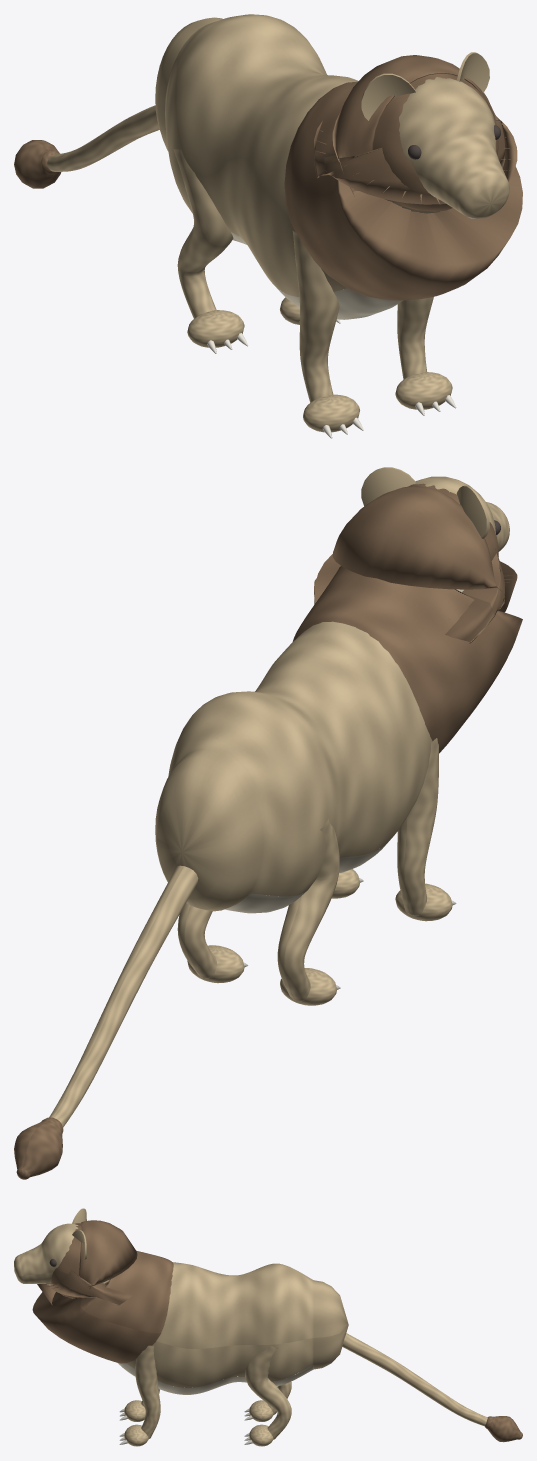
The model's file is other-african-lion.glb.
The picture shows the model from 3 angles, top to bottom: view 1: azimuth 30°, elevation 25°; view 2: azimuth 150°, elevation 25°; view 3: azimuth 270°, elevation 25°; orthographic projection. The views are drawn at different scales.
Parts seen in each view (by area): view 1: african-lion-male; view 2: african-lion-male; view 3: african-lion-male.
Boxes of the visible parts, box(x1,y1,x2,y2) form: african-lion-male: box(14, 14, 522, 438); african-lion-male: box(14, 467, 522, 1179); african-lion-male: box(14, 1208, 522, 1446).
Size of the model in its own units: 0.7024 by 1.62 by 3.39.
6 materials, 3 textured.
